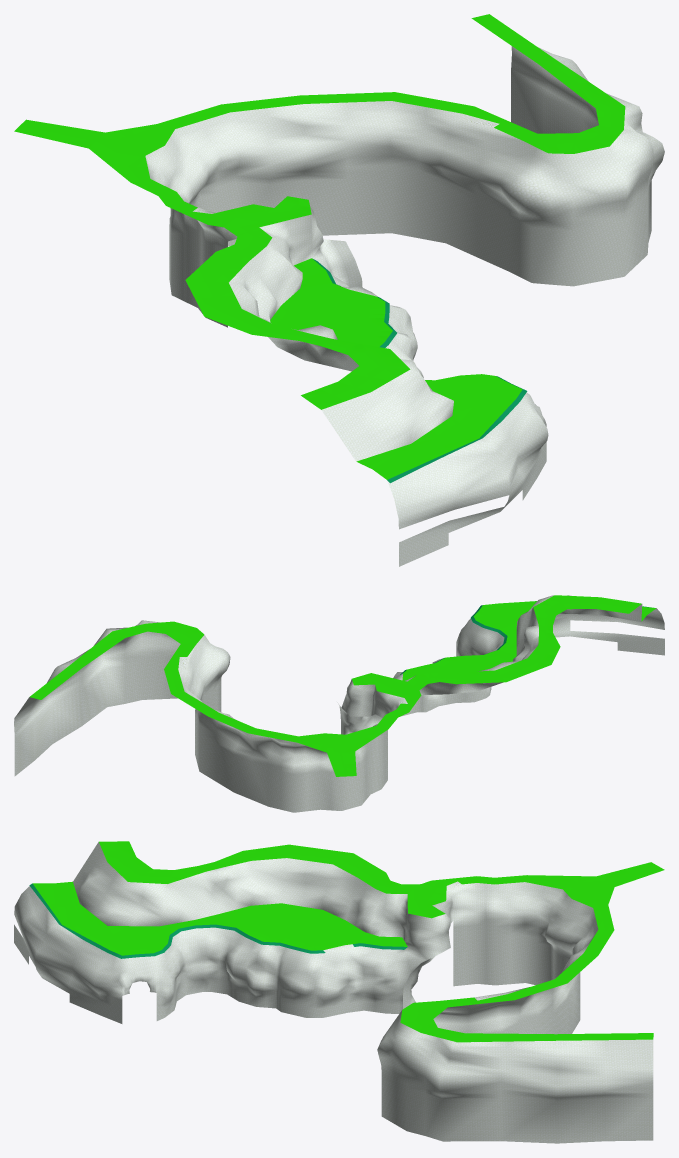
Rendered from Obj_Mountain.fbx.
3 renders of one model, top to bottom at view 1: azimuth 30°, elevation 25°; view 2: azimuth 150°, elevation 25°; view 3: azimuth 270°, elevation 25°, orthographic. The views are drawn at different scales.
Visible parts, largest first — view 1: Obj_Mountain; view 2: Obj_Mountain; view 3: Obj_Mountain.
Part boxes in pixels (box(x1,y1,x2,y2)): Obj_Mountain: box(14, 14, 664, 566); Obj_Mountain: box(14, 595, 664, 812); Obj_Mountain: box(14, 841, 664, 1143).
Size of the model in its own units: 360 by 75.22 by 469.
Materials: 3 (1 with a texture image).
